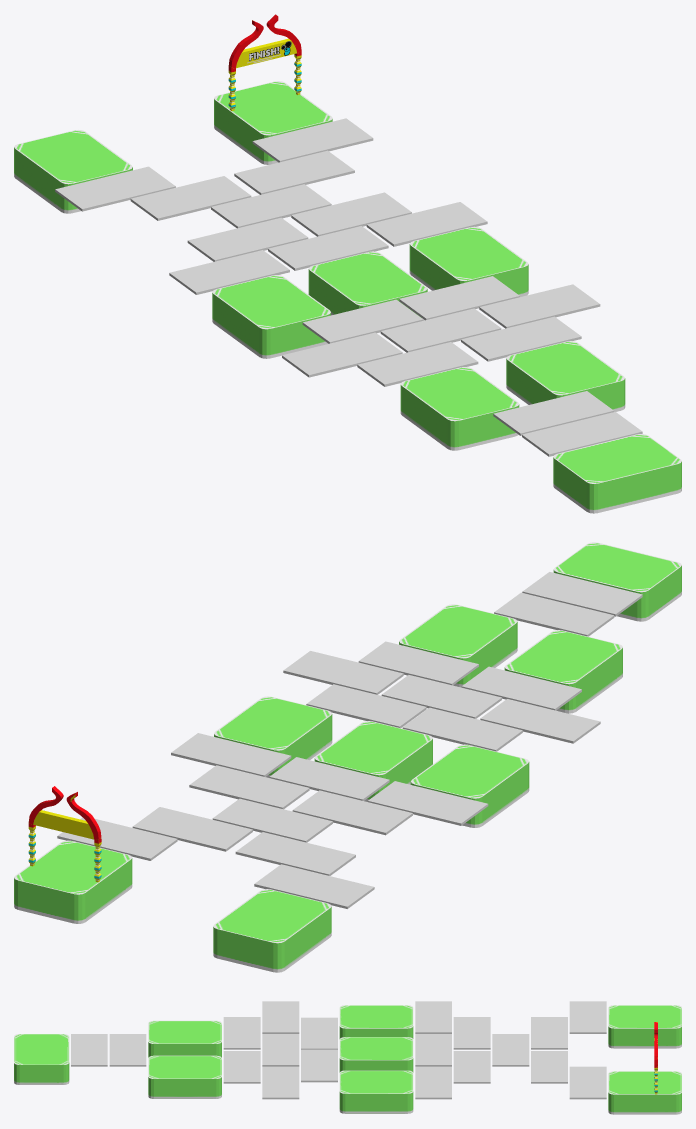
Rendered from Seesaw Level.fbx.
3 views of the same model, one above another, from view 1: azimuth 30°, elevation 25°; view 2: azimuth 150°, elevation 25°; view 3: azimuth 270°, elevation 25° (orthographic). The views are drawn at different scales.
Visible parts, largest first — view 1: Platforms.007, Platforms, Platforms.002, Platforms.001, Platforms.004, Platforms.005, Platforms.006, Platforms.003, Seesaw.012, Seesaw.013, Seesaw.007, Seesaw.017 (+16 smaller); view 2: Platforms.005, Platforms.006, Platforms.002, Platforms, Platforms.007, Platforms.001, Platforms.004, Platforms.003, Seesaw.014, Seesaw.007, Seesaw.008, Seesaw.013 (+16 smaller); view 3: Platforms.004, Platforms.001, Platforms.006, Platforms.005, Platforms.007, Platforms, Platforms.003, Platforms.002, Seesaw.008, Seesaw.018, Seesaw.006, Seesaw.010 (+16 smaller).
Boxes of the visible parts, left/top/right/bottom form: Platforms.007: left=553, top=434, right=681, bottom=513; Platforms: left=400, top=367, right=519, bottom=450; Platforms.002: left=212, top=275, right=330, bottom=358; Platforms.001: left=506, top=341, right=625, bottom=411; Platforms.004: left=409, top=226, right=528, bottom=296; Platforms.005: left=14, top=130, right=132, bottom=213; Platforms.006: left=214, top=81, right=332, bottom=164; Platforms.003: left=308, top=251, right=427, bottom=320; Seesaw.012: left=130, top=176, right=251, bottom=220; Seesaw.013: left=234, top=150, right=354, bottom=194; Seesaw.007: left=282, top=332, right=402, bottom=377; Seesaw.017: left=55, top=166, right=175, bottom=211; Platforms.005: left=213, top=889, right=331, bottom=972; Platforms.006: left=14, top=840, right=132, bottom=923; Platforms.002: left=410, top=744, right=529, bottom=827; Platforms: left=504, top=630, right=622, bottom=713; Platforms.007: left=553, top=542, right=681, bottom=621; Platforms.001: left=399, top=604, right=517, bottom=687; Platforms.004: left=214, top=696, right=332, bottom=777; Platforms.003: left=314, top=721, right=432, bottom=801; Seesaw.014: left=292, top=790, right=412, bottom=835; Seesaw.007: left=480, top=699, right=600, bottom=743; Seesaw.008: left=283, top=651, right=403, bottom=694; Seesaw.013: left=132, top=807, right=252, bottom=851; Platforms.004: left=339, top=1070, right=413, bottom=1113; Platforms.001: left=148, top=1055, right=221, bottom=1098; Platforms.006: left=608, top=1071, right=681, bottom=1114; Platforms.005: left=608, top=1005, right=681, bottom=1048; Platforms.007: left=14, top=1034, right=69, bottom=1084; Platforms: left=148, top=1020, right=221, bottom=1057; Platforms.003: left=339, top=1037, right=413, bottom=1072; Platforms.002: left=339, top=1005, right=413, bottom=1038; Seesaw.008: left=262, top=1066, right=299, bottom=1099; Seesaw.018: left=569, top=1066, right=606, bottom=1099; Seesaw.006: left=301, top=1049, right=337, bottom=1082; Seesaw.010: left=415, top=1066, right=451, bottom=1099.
Size of the model in its own units: 30.95 by 11.54 by 90.75.
